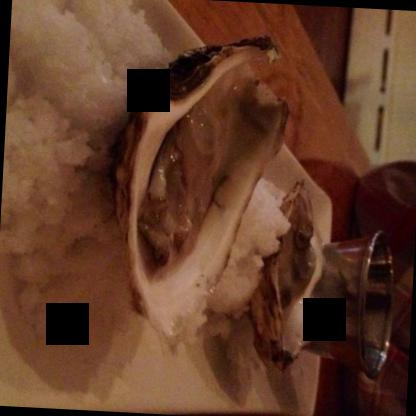oyster: (110, 35, 294, 330)
